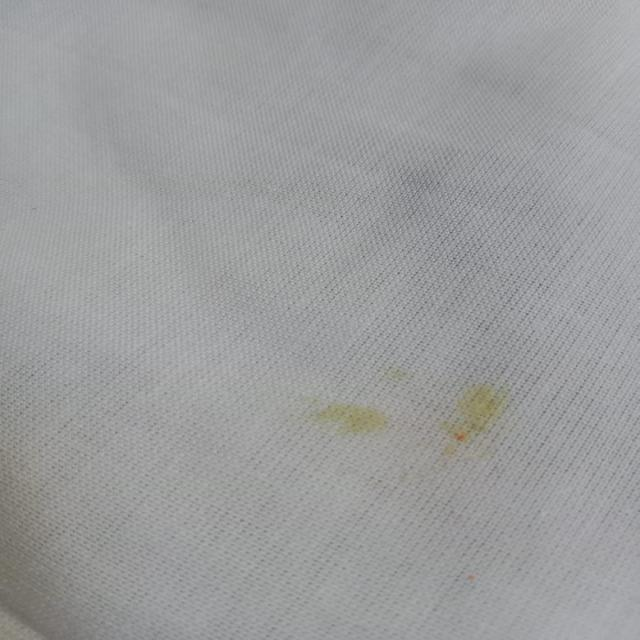stain: (300, 366, 520, 454)
